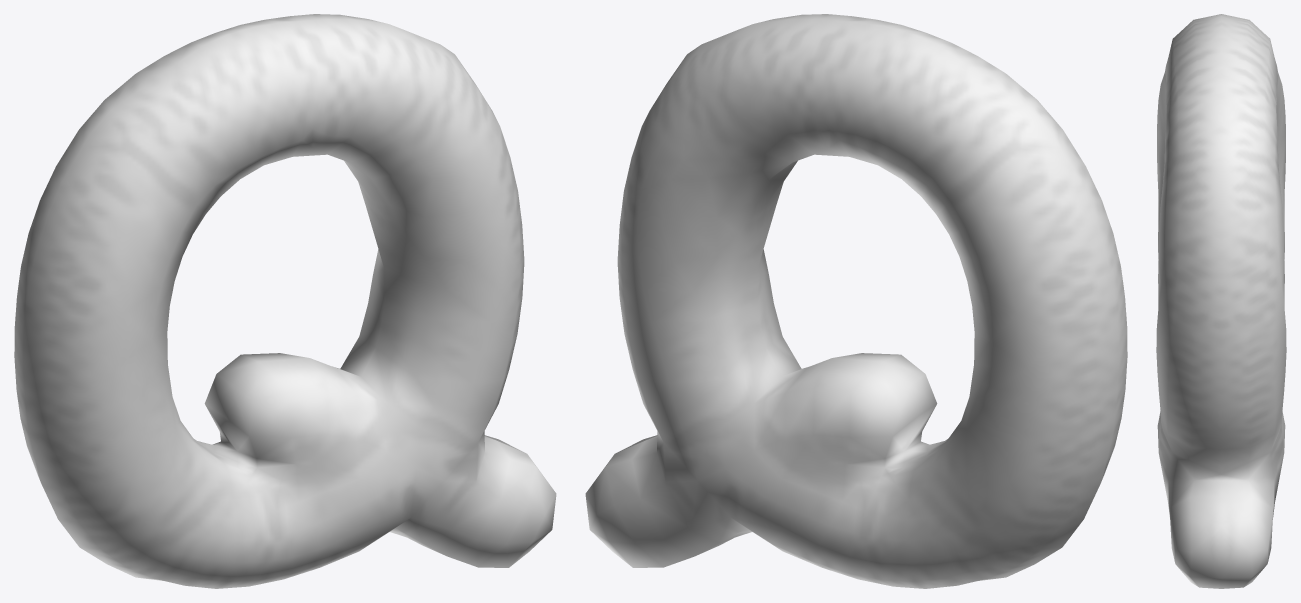
Rendered from LettersBalloon01_Q.FBX.
The picture shows the model from 3 angles, left to right: view 1: azimuth 30°, elevation 25°; view 2: azimuth 150°, elevation 25°; view 3: azimuth 270°, elevation 25°; orthographic projection. The views are drawn at different scales.
Parts seen in each view (by area): view 1: LettersBalloon01_Q; view 2: LettersBalloon01_Q; view 3: LettersBalloon01_Q.
Boxes of the visible parts, x1,y1,x2,y2 form: LettersBalloon01_Q: (14, 14, 556, 588); LettersBalloon01_Q: (585, 14, 1127, 588); LettersBalloon01_Q: (1156, 14, 1286, 588).
Size of what is drawn, in the model's own units: 0.4792 by 0.5214 by 0.1326.
